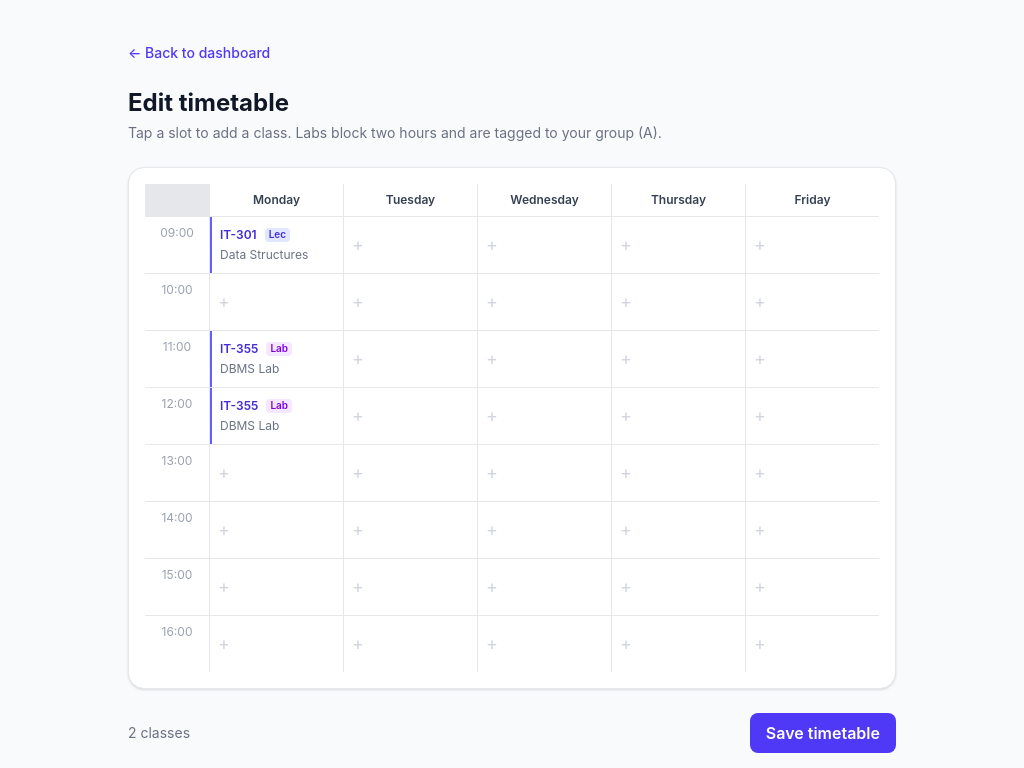
Test: EditTimetableScreen › rejects a slot that overlaps an existing class
Click the button named "Add Monday 10:00" at (276, 302), box [210, 274, 343, 330]
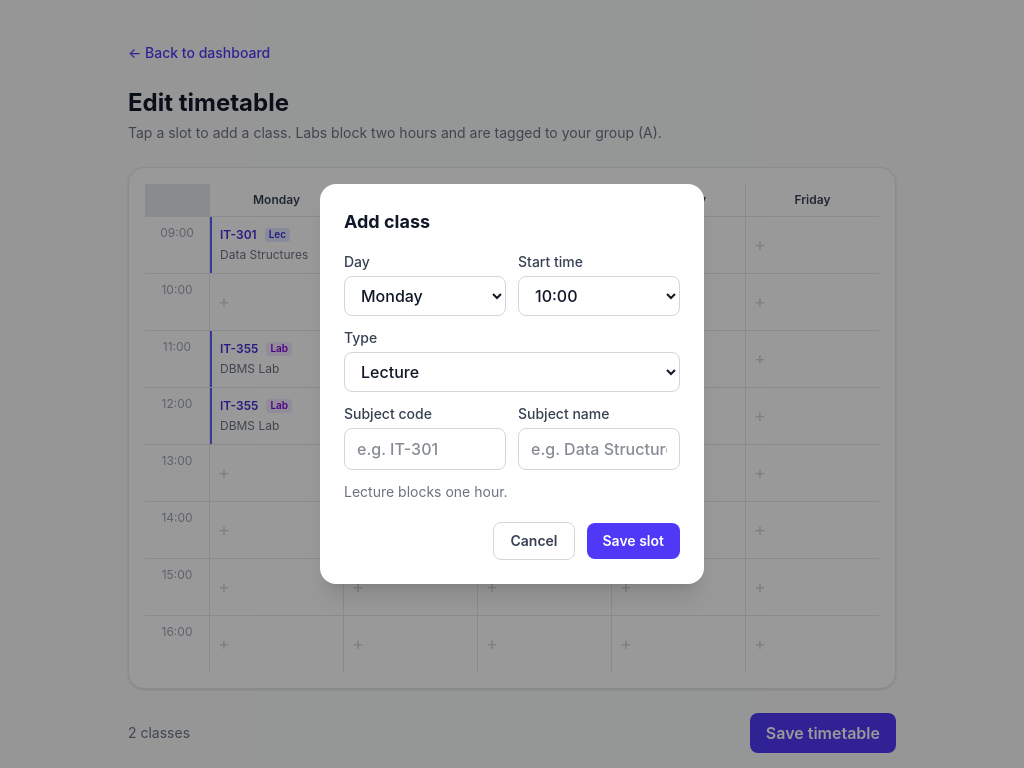
Select "Lab" in the dropdown labelled "Type" at (512, 372), box [344, 352, 680, 392]
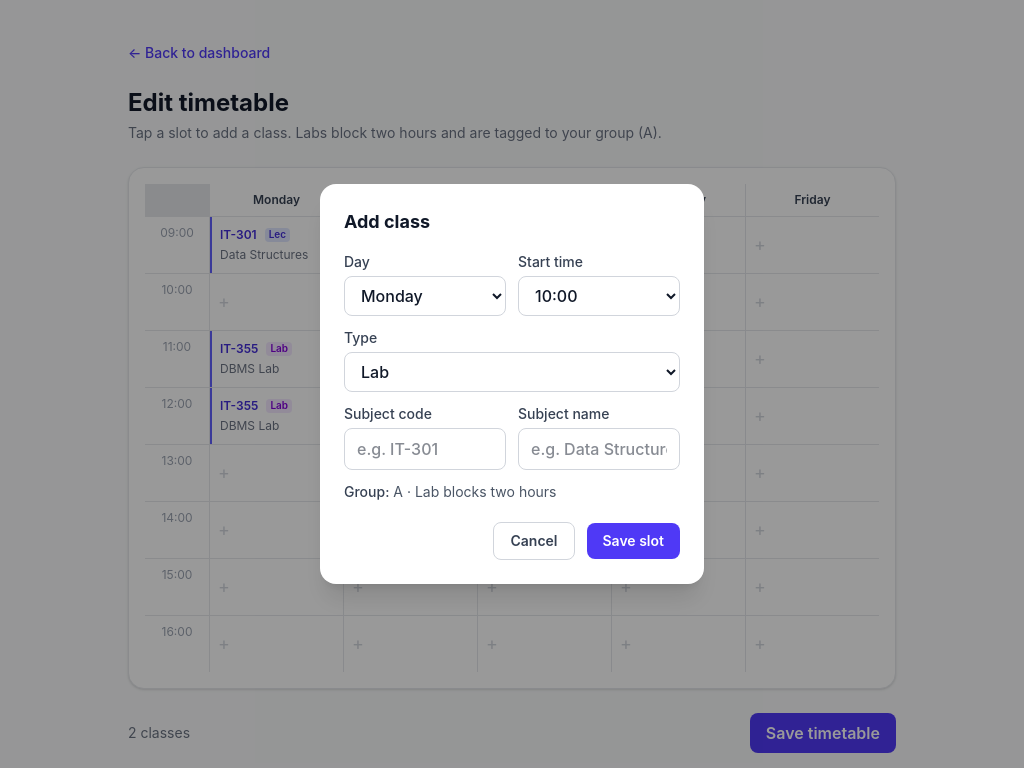
Type "IT-999" into the field labelled "Subject code" at (425, 449), box [344, 428, 506, 470]
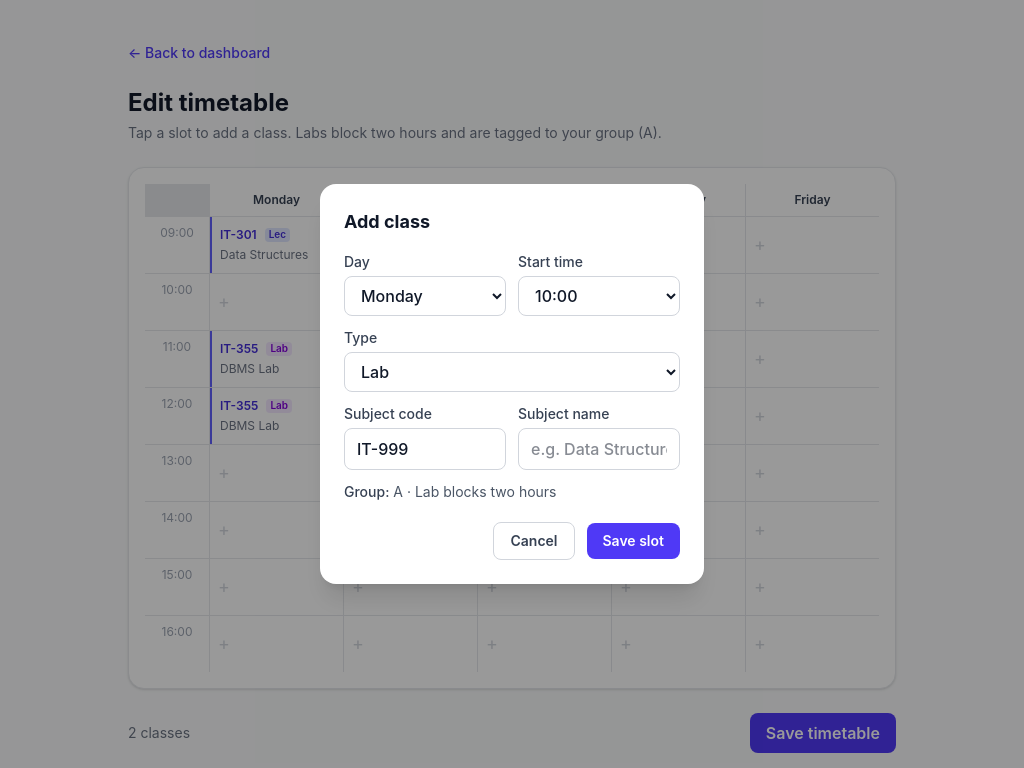
Type "Overlap Lab" into the field labelled "Subject name" at (599, 449), box [518, 428, 680, 470]
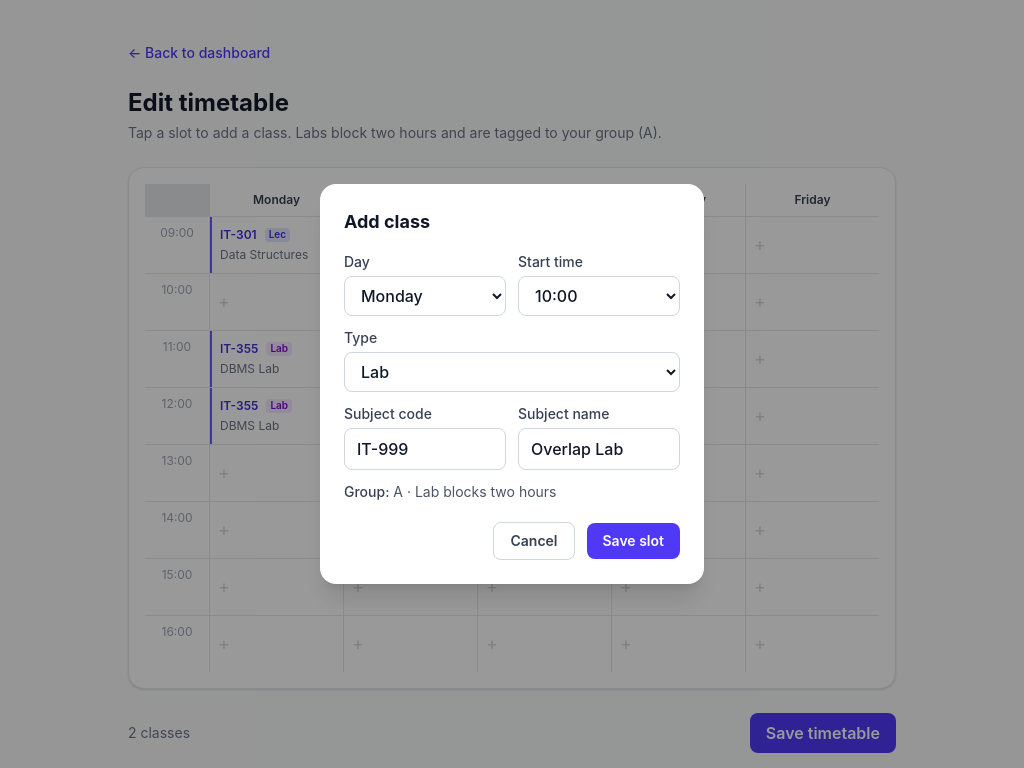
Click the button "Save slot" at (633, 541), box [586, 523, 680, 559]
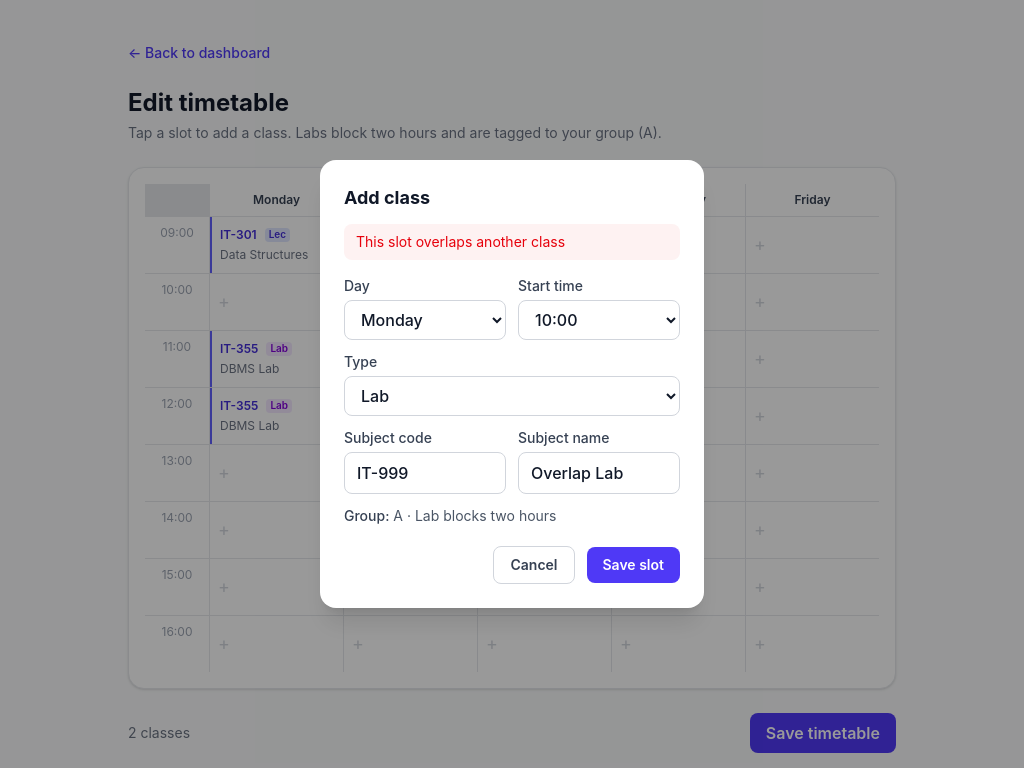
Result: the dialog "Add class" is shown
Result: the message reads "This slot overlaps another class" at [356, 233, 565, 250]
